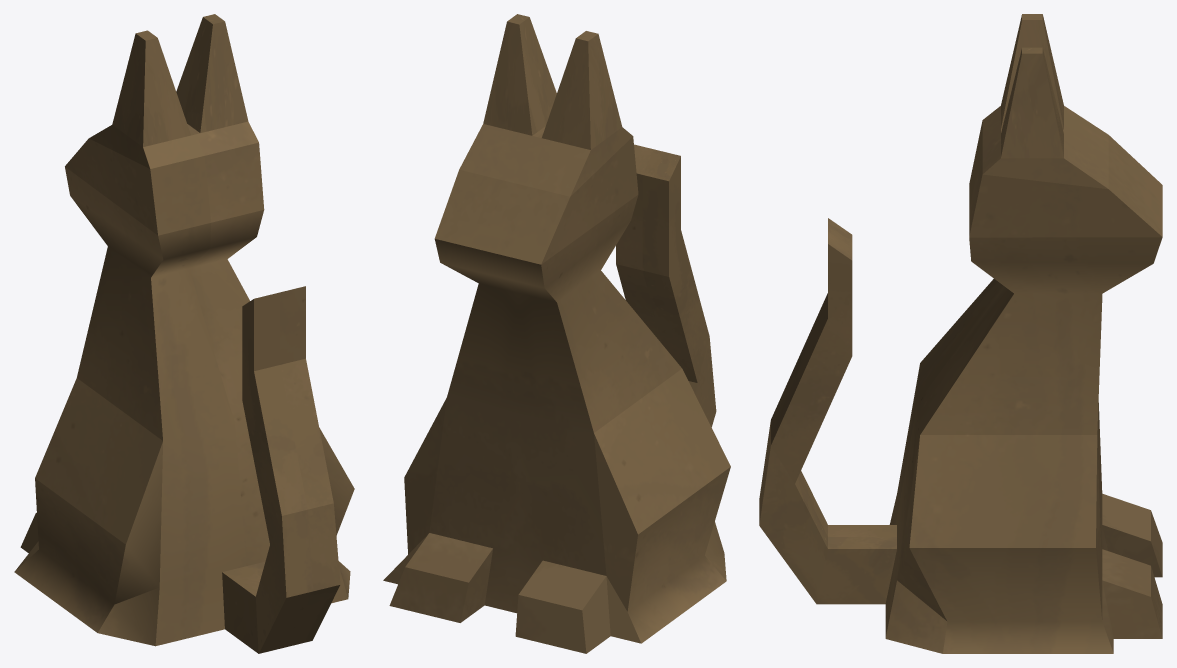
The model's file is SM_cat.fbx.
3 views of the same model, side by side, from view 1: azimuth 30°, elevation 25°; view 2: azimuth 150°, elevation 25°; view 3: azimuth 270°, elevation 25° (orthographic). The views are drawn at different scales.
Visible parts, largest first — view 1: cat; view 2: cat; view 3: cat.
Part boxes in pixels (x1=…): cat: x1=14, y1=14, x2=354, y2=653; cat: x1=383, y1=14, x2=730, y2=653; cat: x1=759, y1=14, x2=1162, y2=653.
Bounding box in the file's own units: 5.55 × 11.38 × 7.47.
